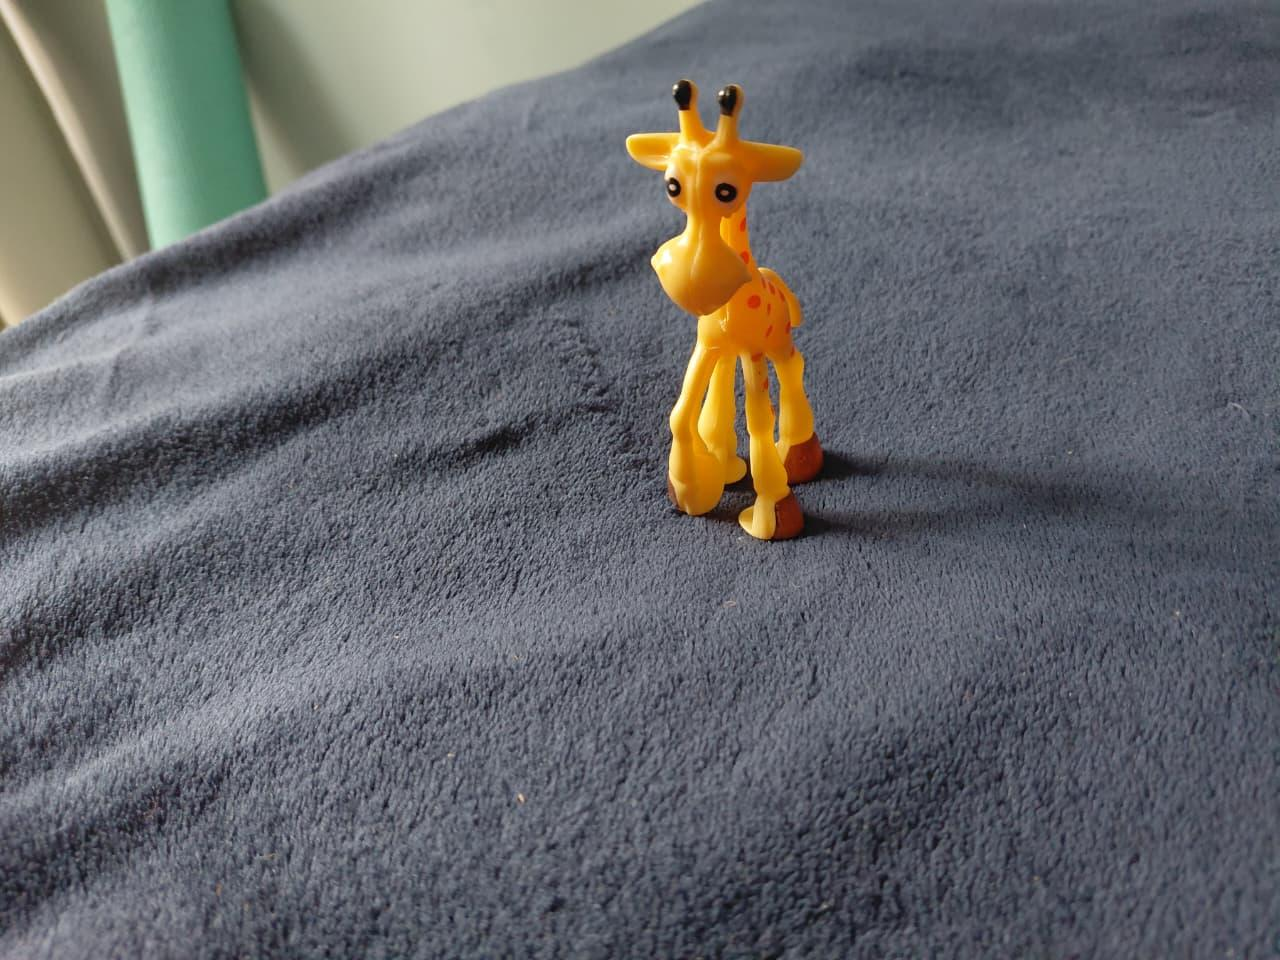giraffe: (618, 46, 850, 544)
